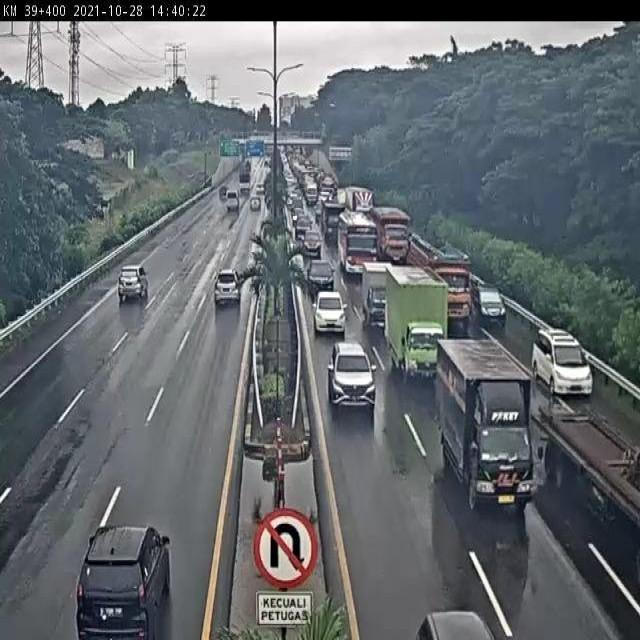bus-l-: (337, 210, 378, 274)
car: (74, 524, 171, 639), (534, 326, 594, 394), (328, 340, 378, 408), (471, 277, 508, 328), (311, 288, 348, 336), (114, 268, 151, 307), (212, 269, 244, 308), (305, 256, 337, 291)
truck-l-: (408, 233, 469, 327), (375, 205, 409, 263)
truck-m-: (435, 333, 537, 511), (385, 267, 447, 380)
truck-s-: (362, 260, 394, 323)
